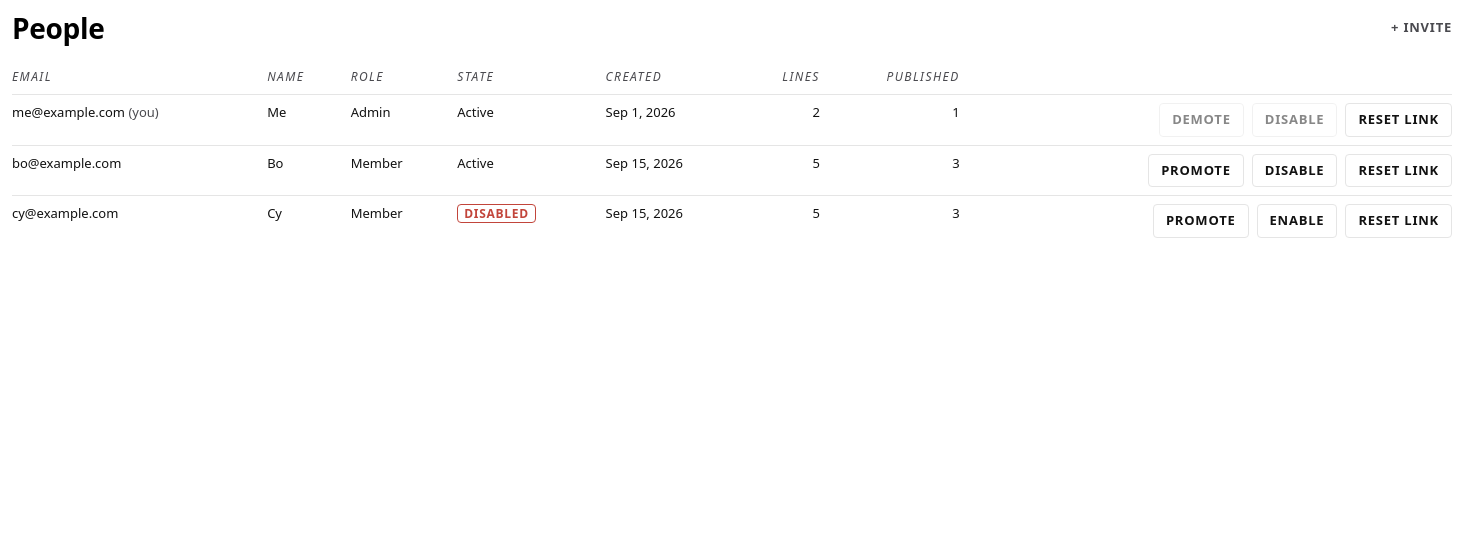
Test: AdminPeople › inviting › keeps the form open with the reason when the email is taken
Click the button with test id "invite-open" at (1422, 28), box [1391, 18, 1452, 38]
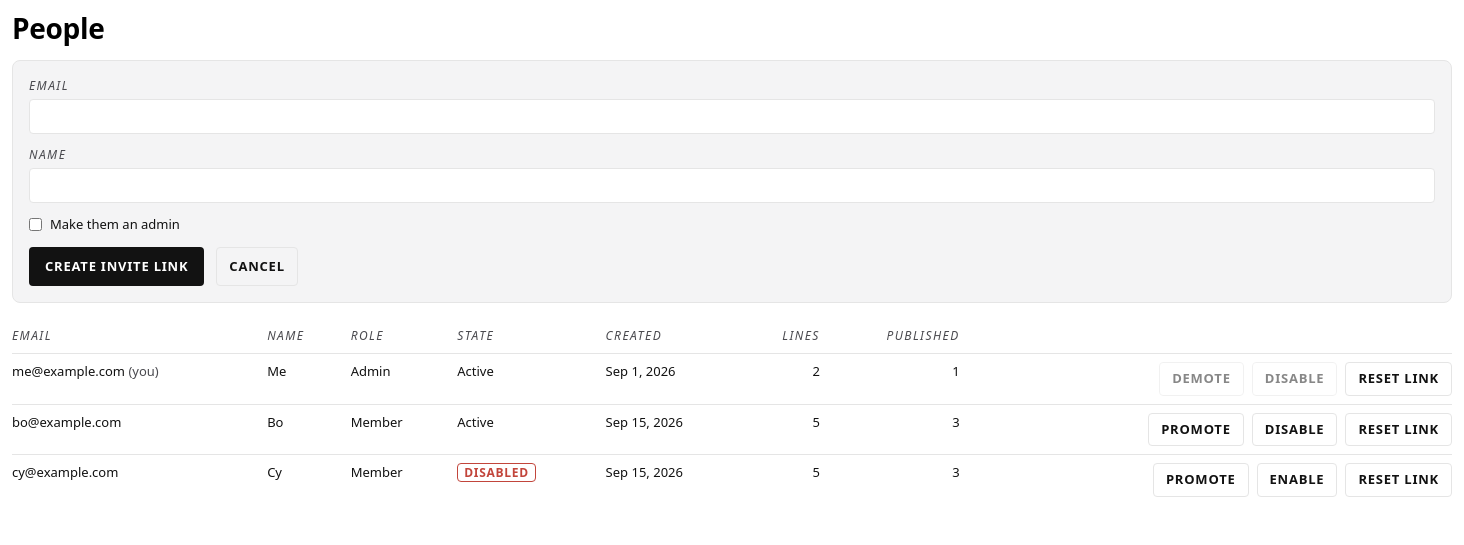
Type "bo@example.com" into the field with test id "invite-email" at (732, 117), box [29, 99, 1435, 134]
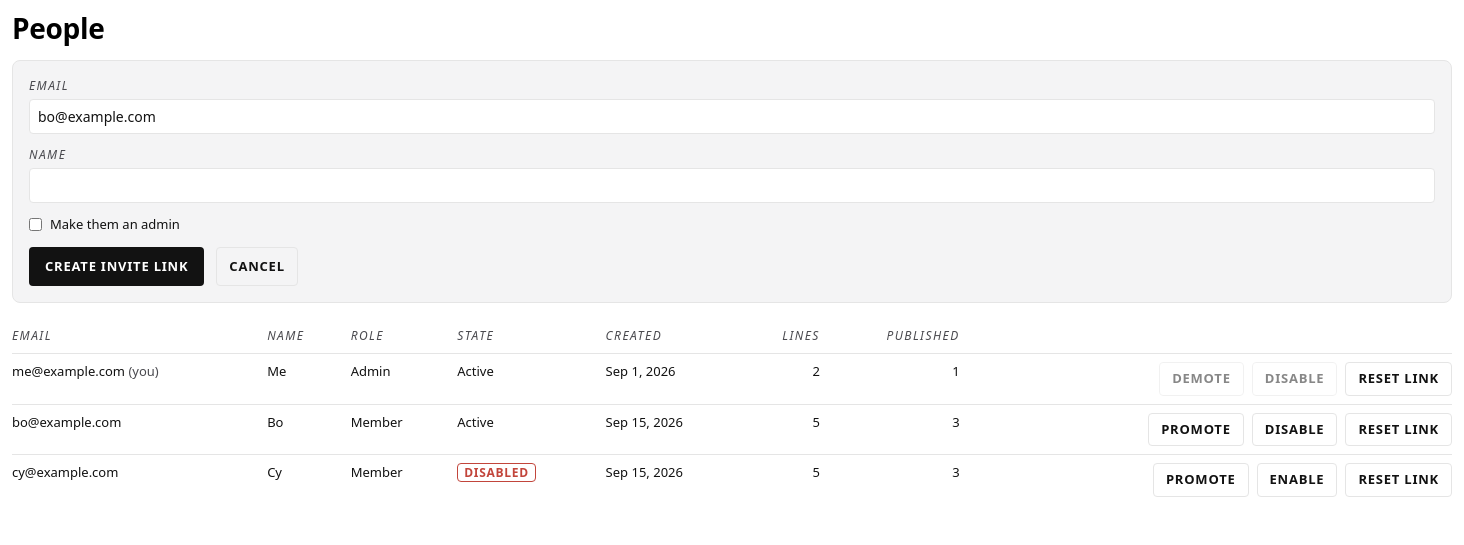
Submit the form with test id "invite-form", box [12, 60, 1452, 303]
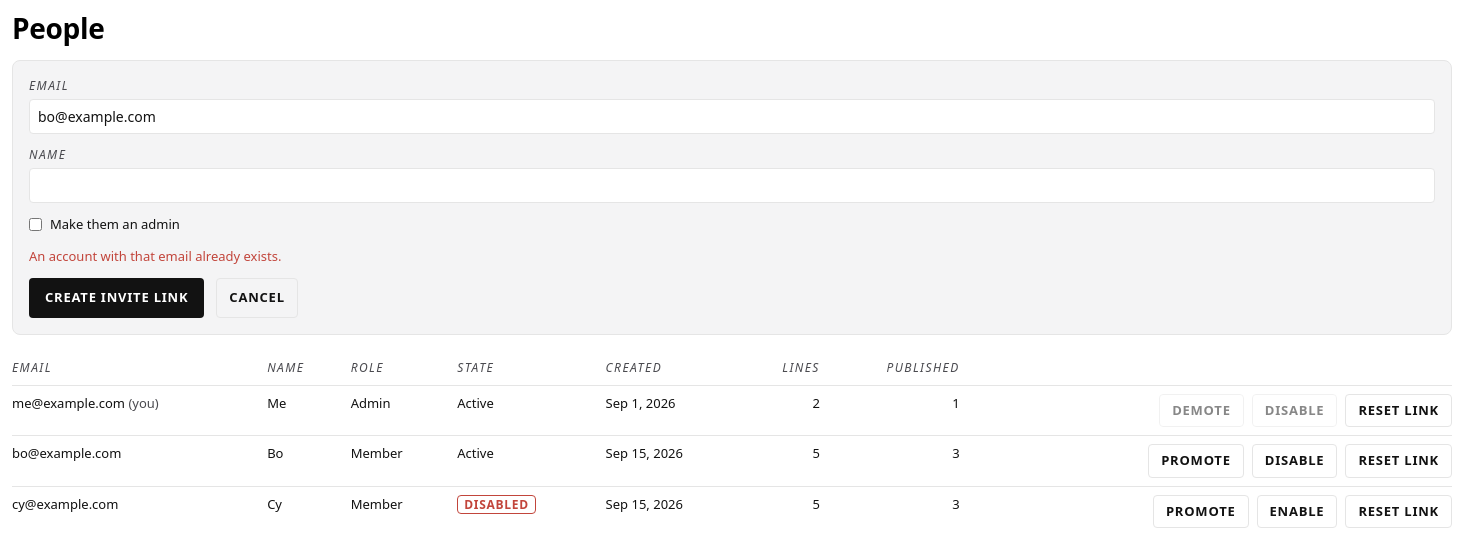
Expected: the message with test id "invite-error" shows "already", [29, 247, 282, 265]
